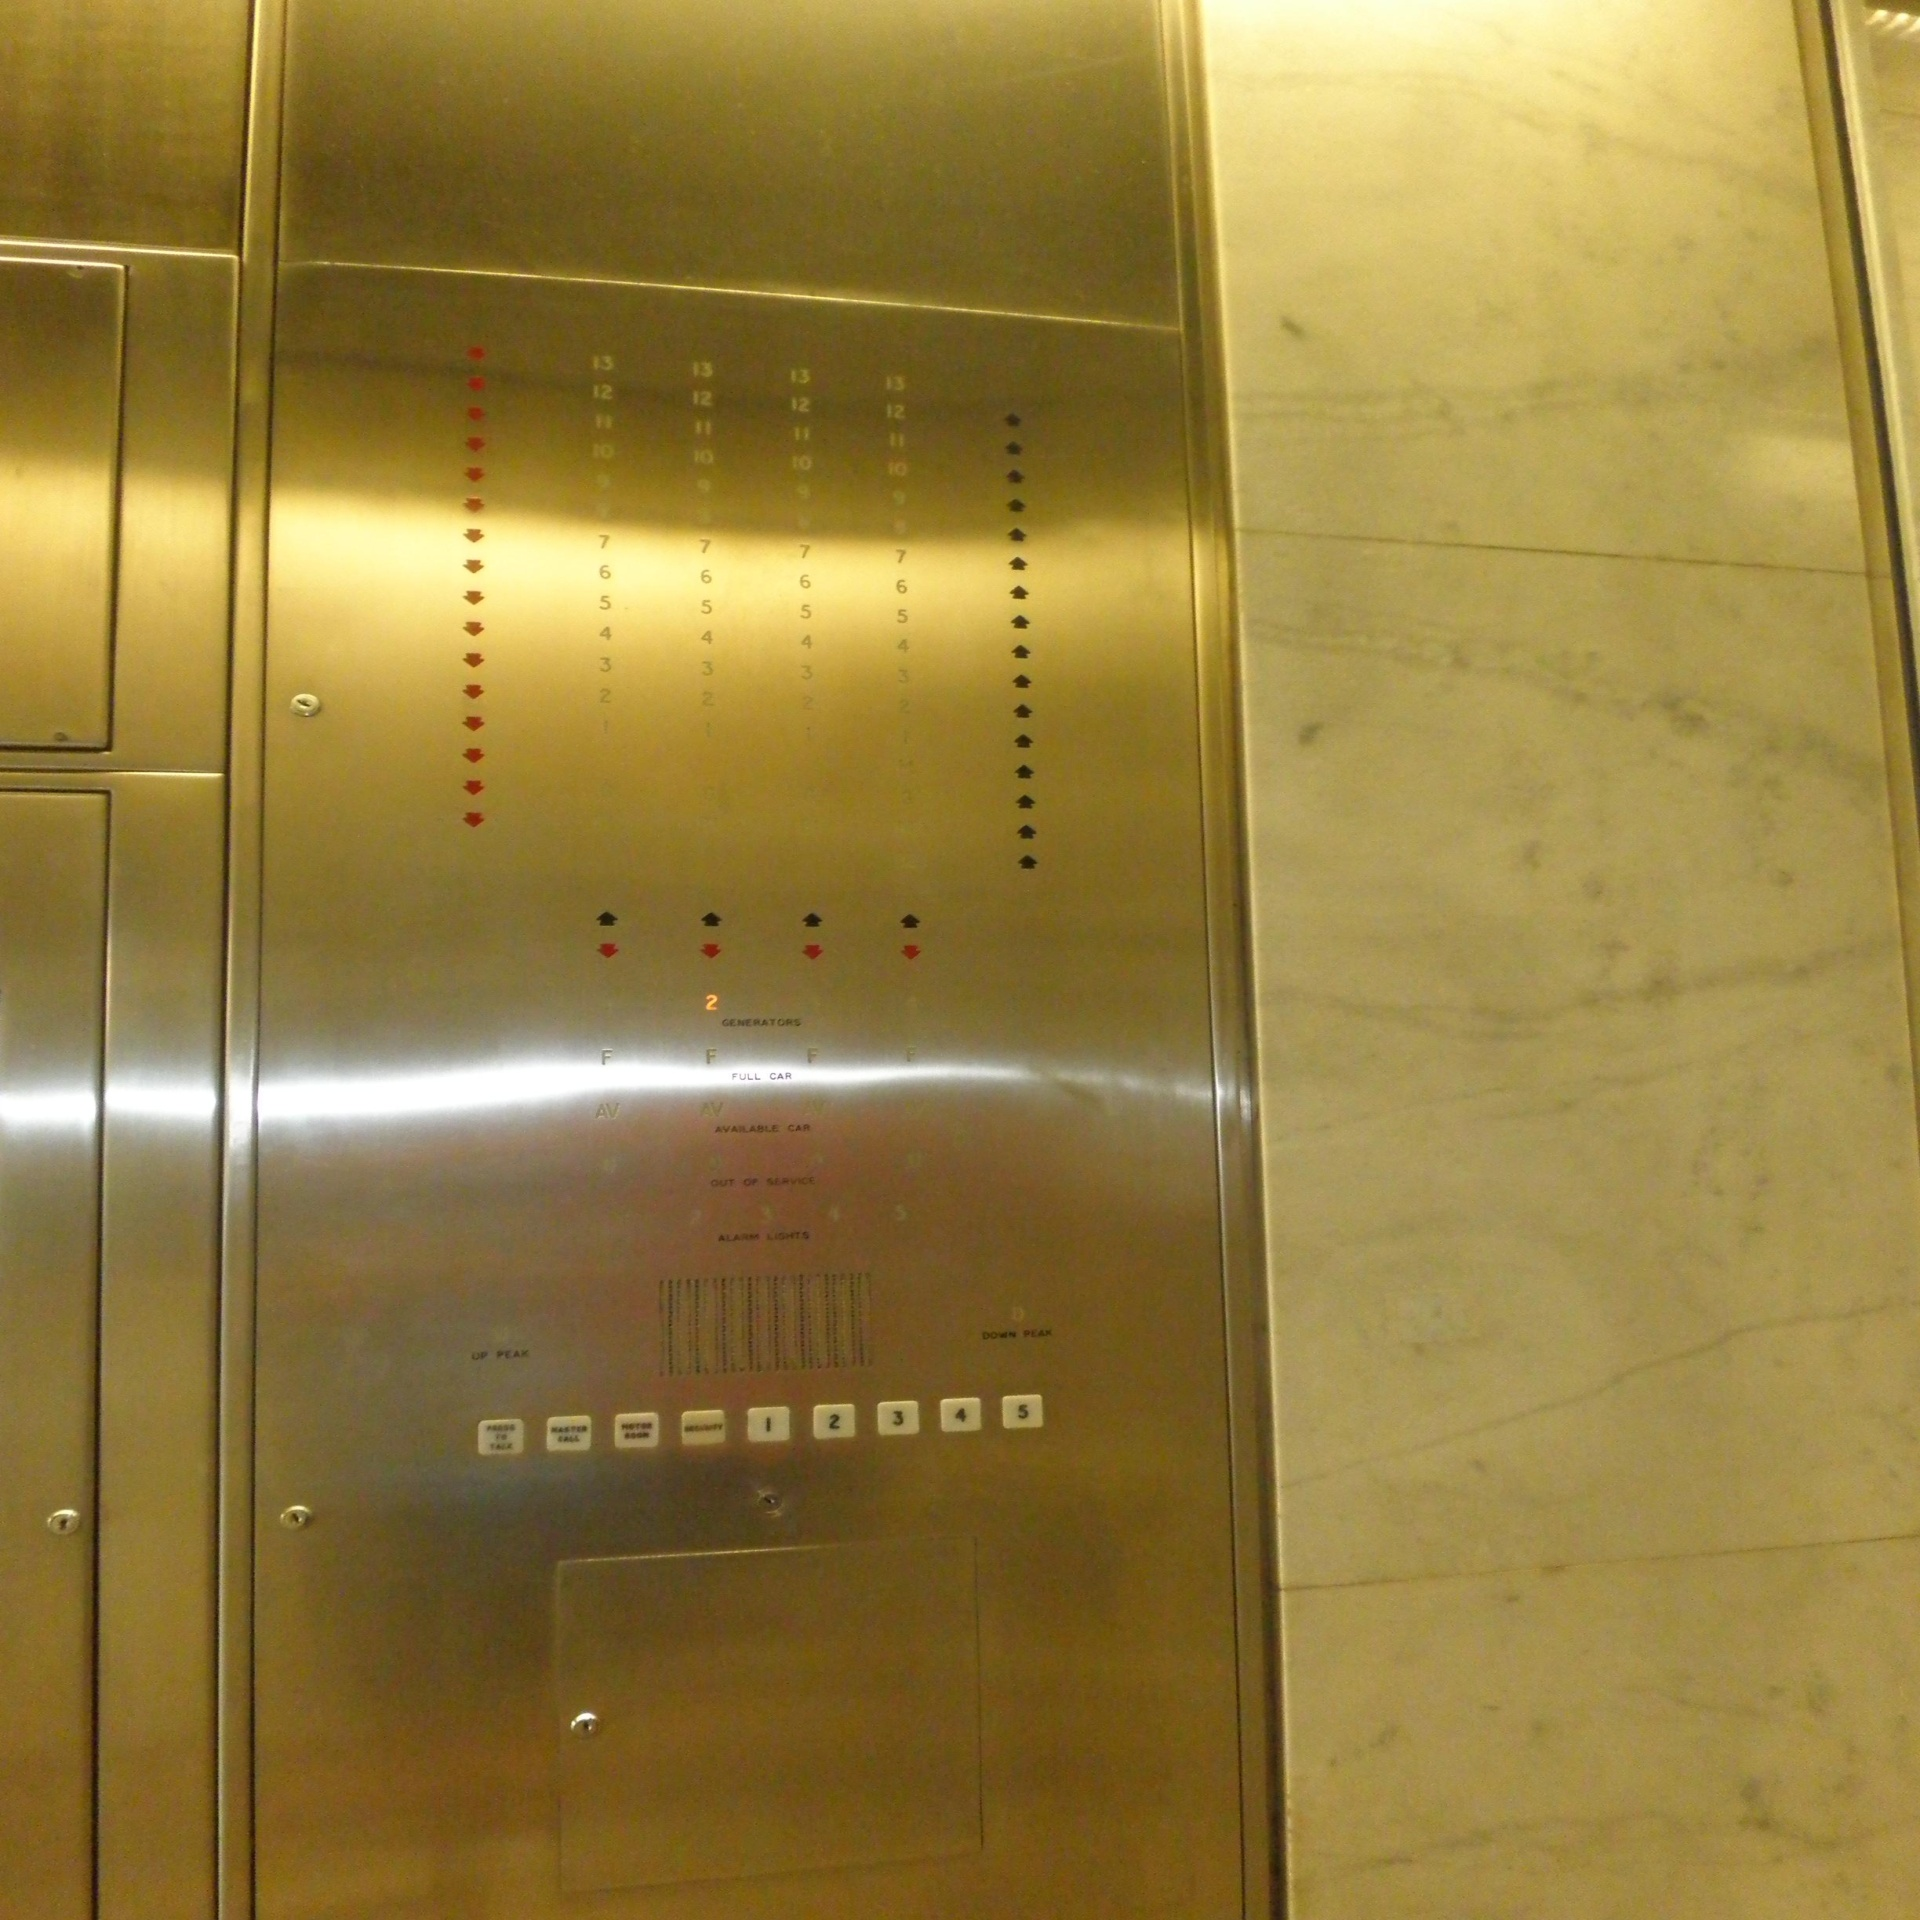1: (744, 1401, 793, 1445)
2: (811, 1401, 860, 1444)
3: (876, 1396, 923, 1438)
4: (937, 1394, 985, 1436)
5: (1000, 1391, 1046, 1429)
keyhole: (566, 1707, 605, 1746), (42, 1507, 81, 1545), (274, 1502, 313, 1538), (287, 687, 324, 726)
text: (475, 1415, 526, 1459), (679, 1405, 728, 1449), (543, 1412, 593, 1454), (612, 1410, 659, 1452)
